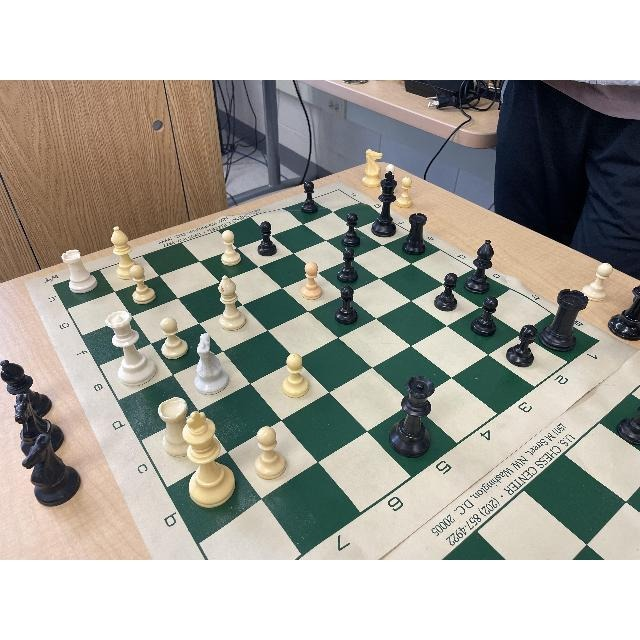black-bishop: (462, 237, 498, 295)
black-king: (372, 170, 398, 238)
black-pawn: (504, 323, 539, 369), (471, 296, 501, 338), (433, 271, 461, 312), (334, 246, 362, 284), (334, 287, 360, 325), (254, 219, 279, 256), (298, 179, 321, 215), (341, 211, 362, 246)
black-queen: (387, 374, 437, 459)
black-rook: (538, 287, 591, 355), (401, 211, 431, 256)
white-bishop: (216, 275, 248, 331), (110, 225, 140, 280)
white-king: (184, 409, 240, 509)
white-knight: (191, 331, 231, 397)
white-pawn: (249, 425, 289, 479), (156, 316, 189, 360), (281, 353, 311, 398), (127, 263, 156, 305), (298, 261, 325, 303), (217, 228, 243, 266)
white-queen: (104, 309, 156, 387)
white-rook: (158, 396, 200, 459), (59, 249, 101, 295)
